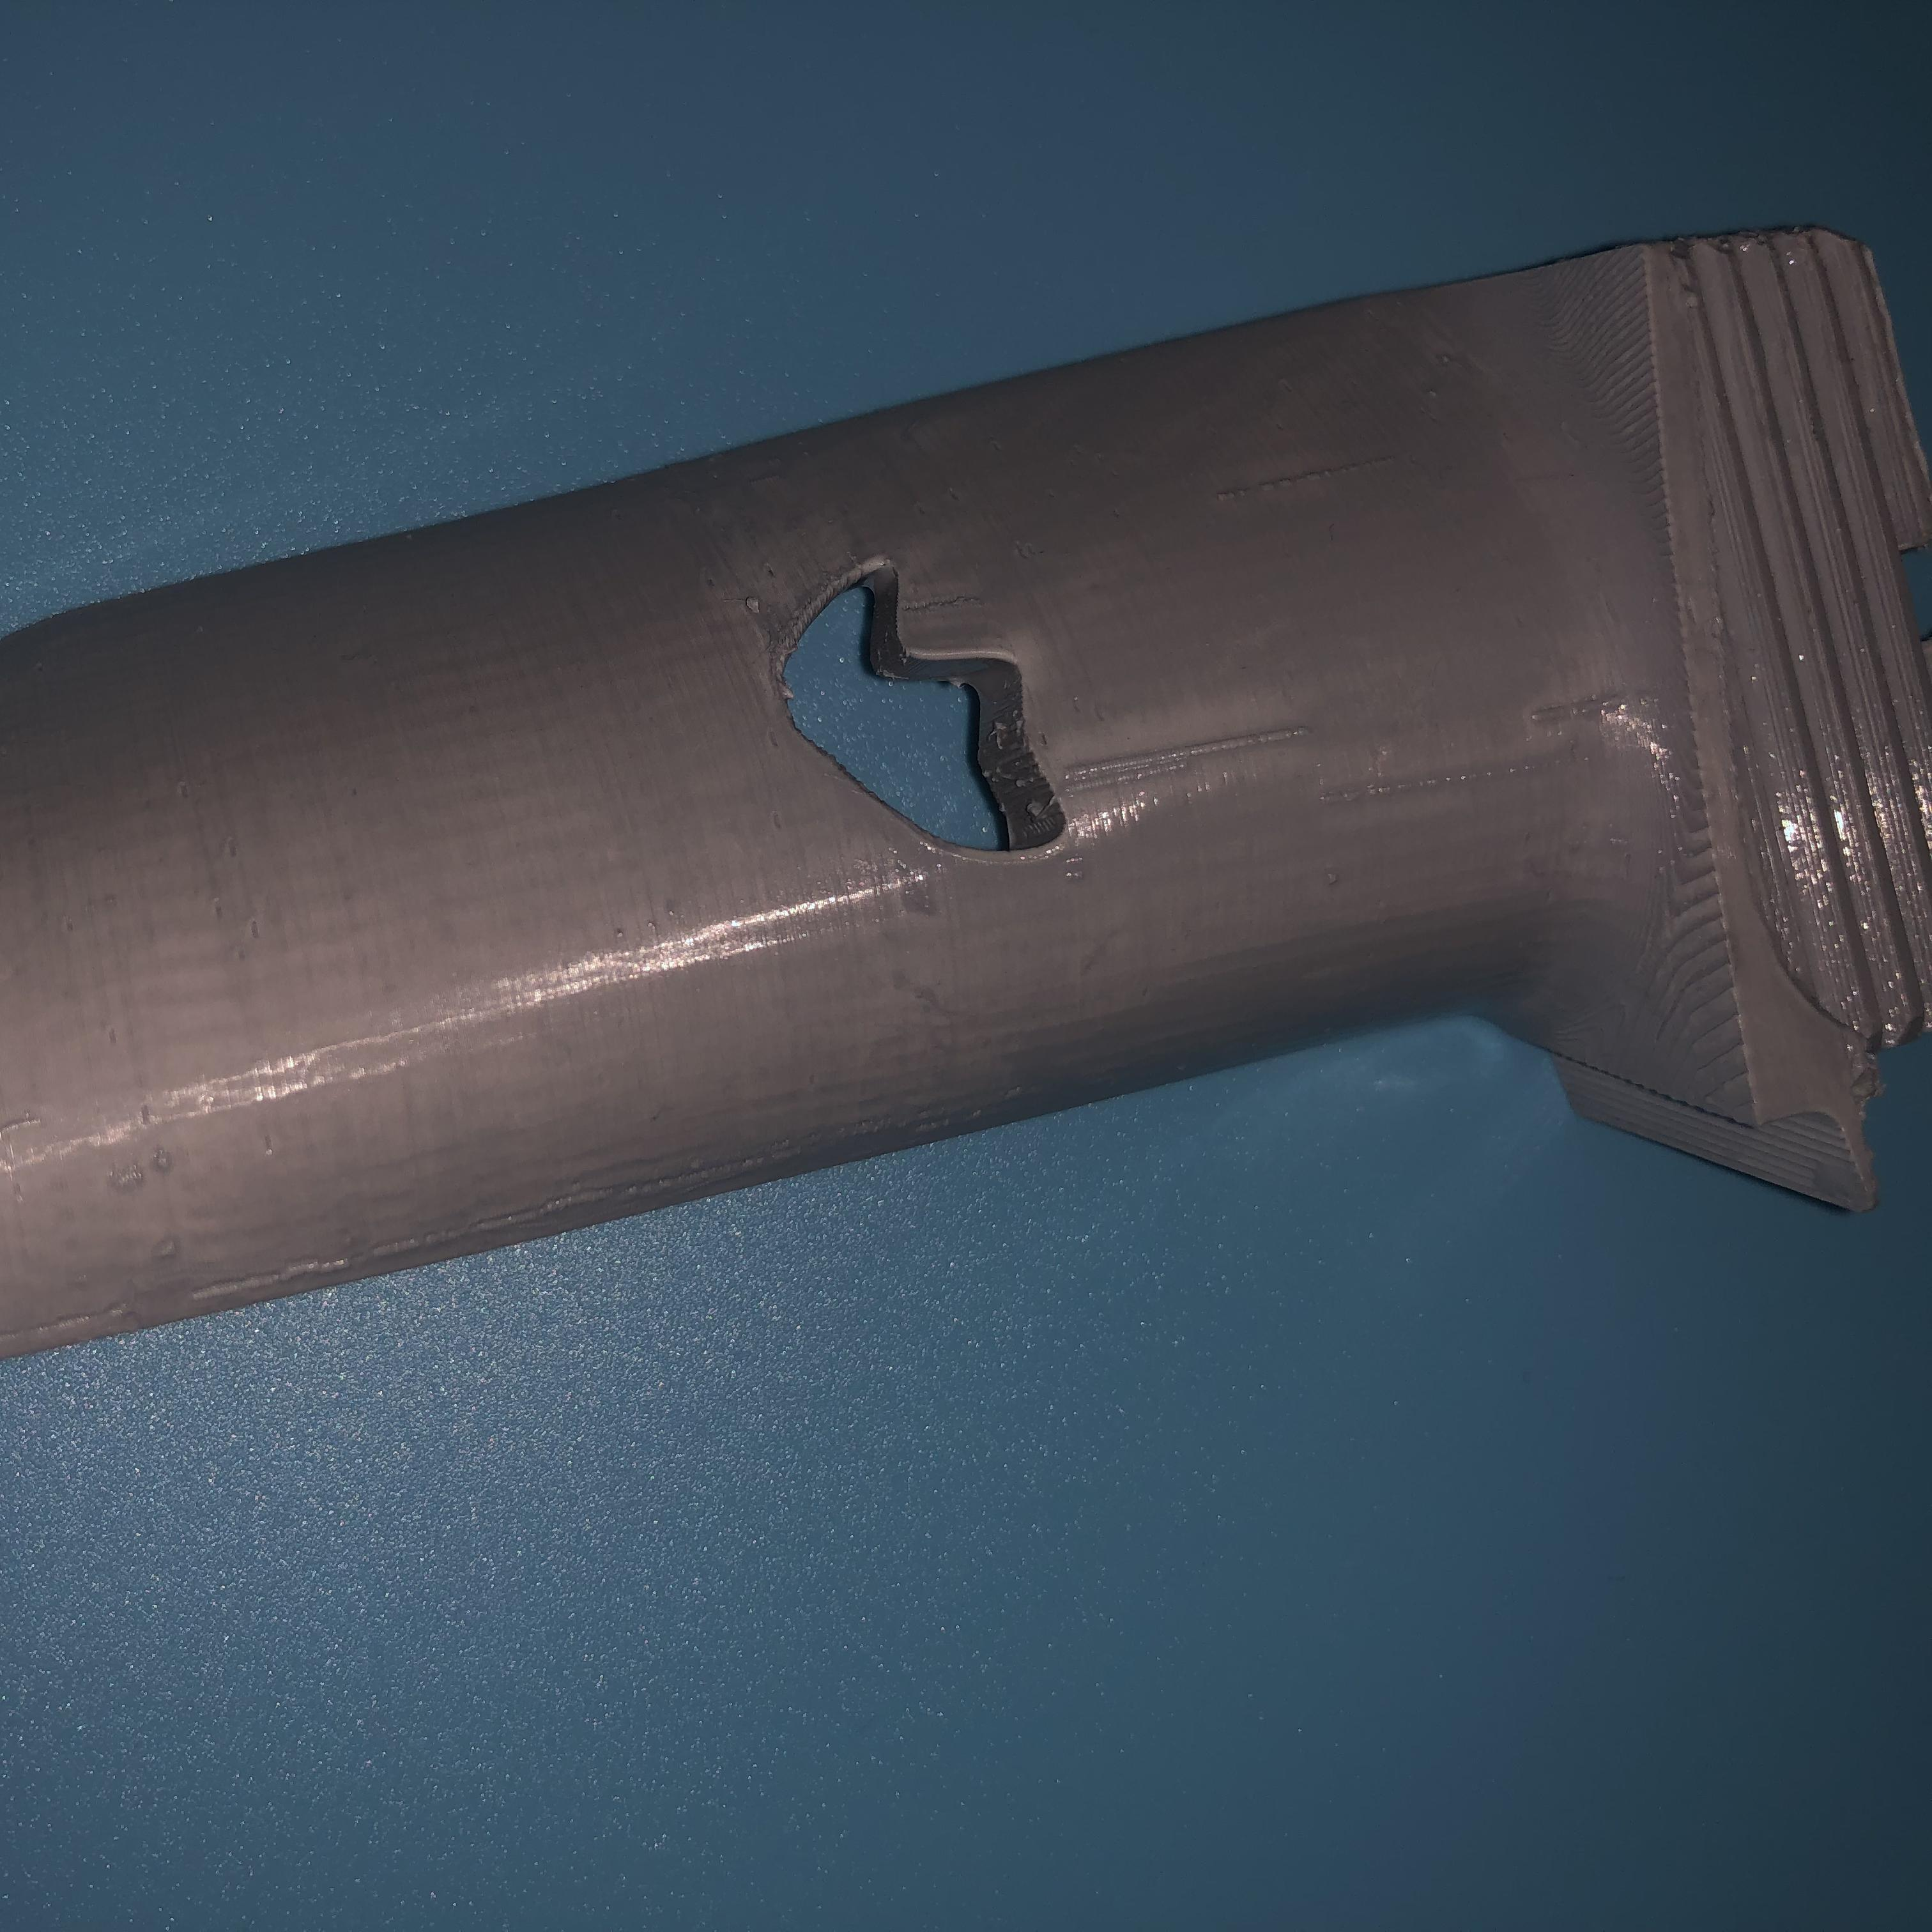breakdown: (775, 552, 1095, 879)
